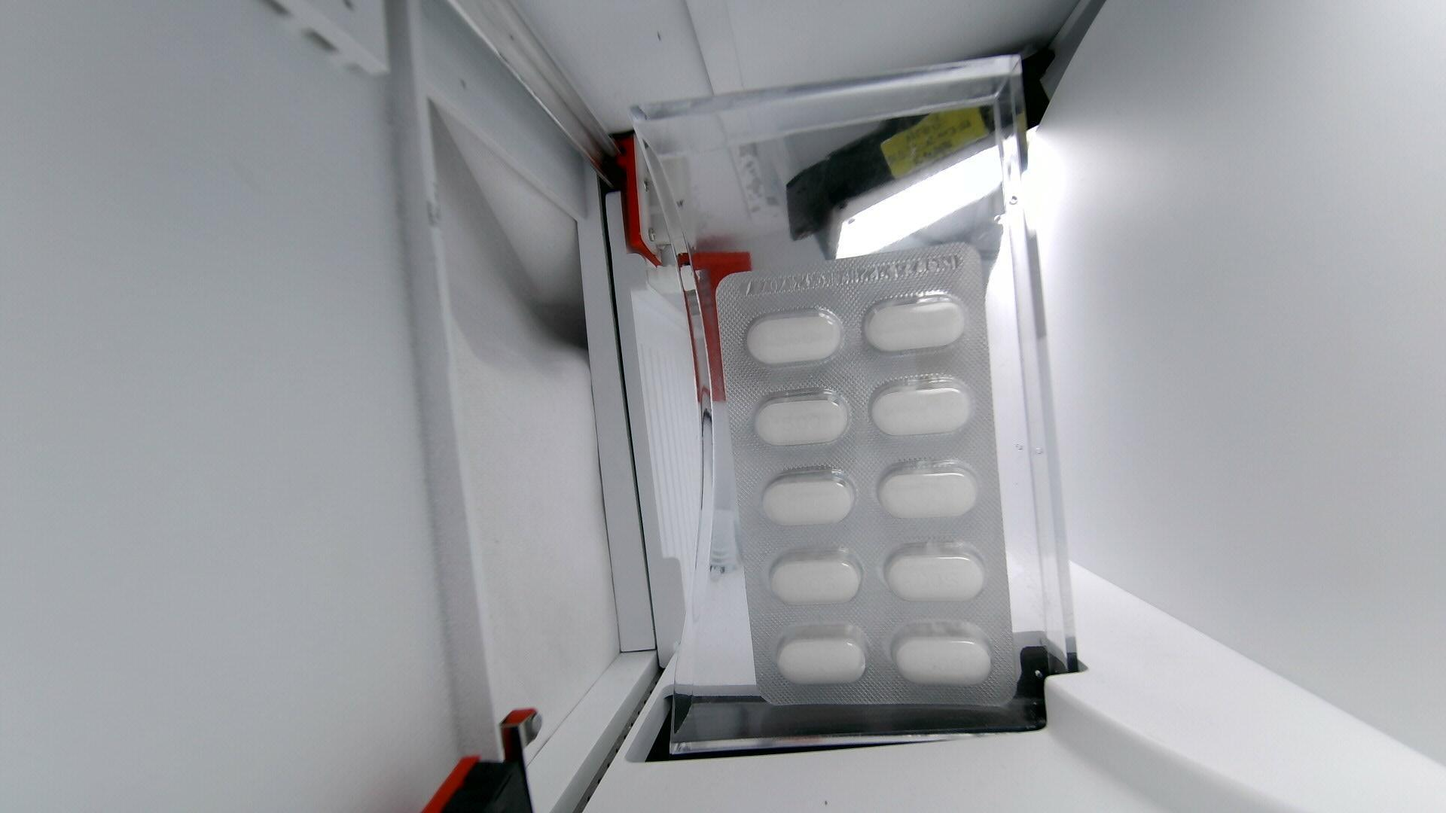Light Front: (721, 243, 1021, 705)
Pill Front: (870, 376, 976, 438), (891, 621, 992, 686), (863, 292, 966, 353), (883, 540, 986, 601), (768, 547, 864, 605), (880, 463, 978, 519), (753, 389, 849, 446), (745, 309, 841, 365), (761, 468, 855, 525), (776, 624, 865, 683)
